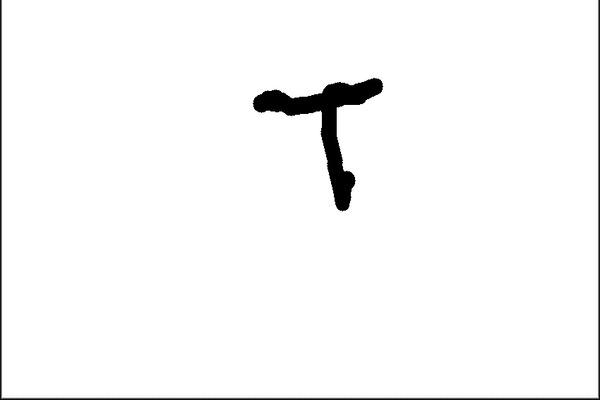T: (240, 77, 408, 212)
